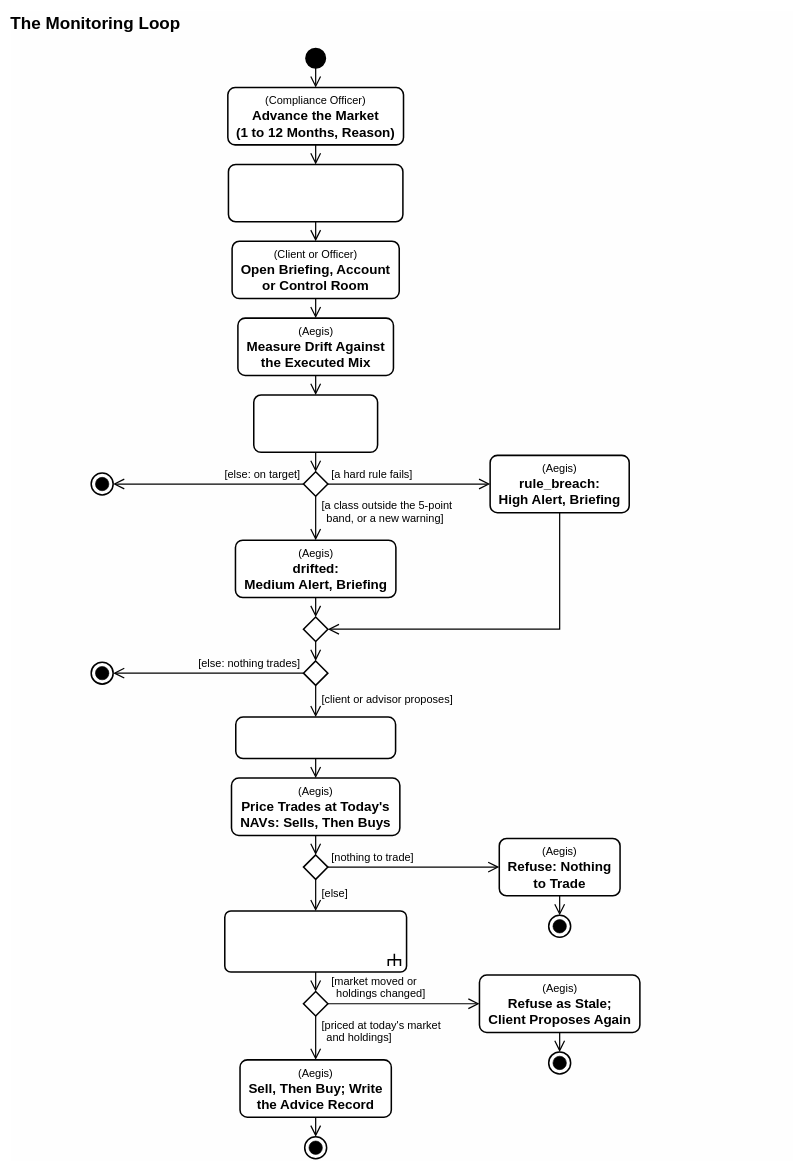
This 803x1171 diagram has some shape labels left out. The centre of each missing label's shape, as x and y in pixels:
(Aegis) Replay Monthly Returns, Recompute NAVs, Log: the point at 315,192
(Aegis) Run the Gate on the Live Weights: the point at 315,423
(Client or Advisor Agent (T2)) Propose Rebalancing: the point at 315,737
(Client, Aegis) Gate, Quiz and Confirm (Figure 3.1): the point at 315,941
